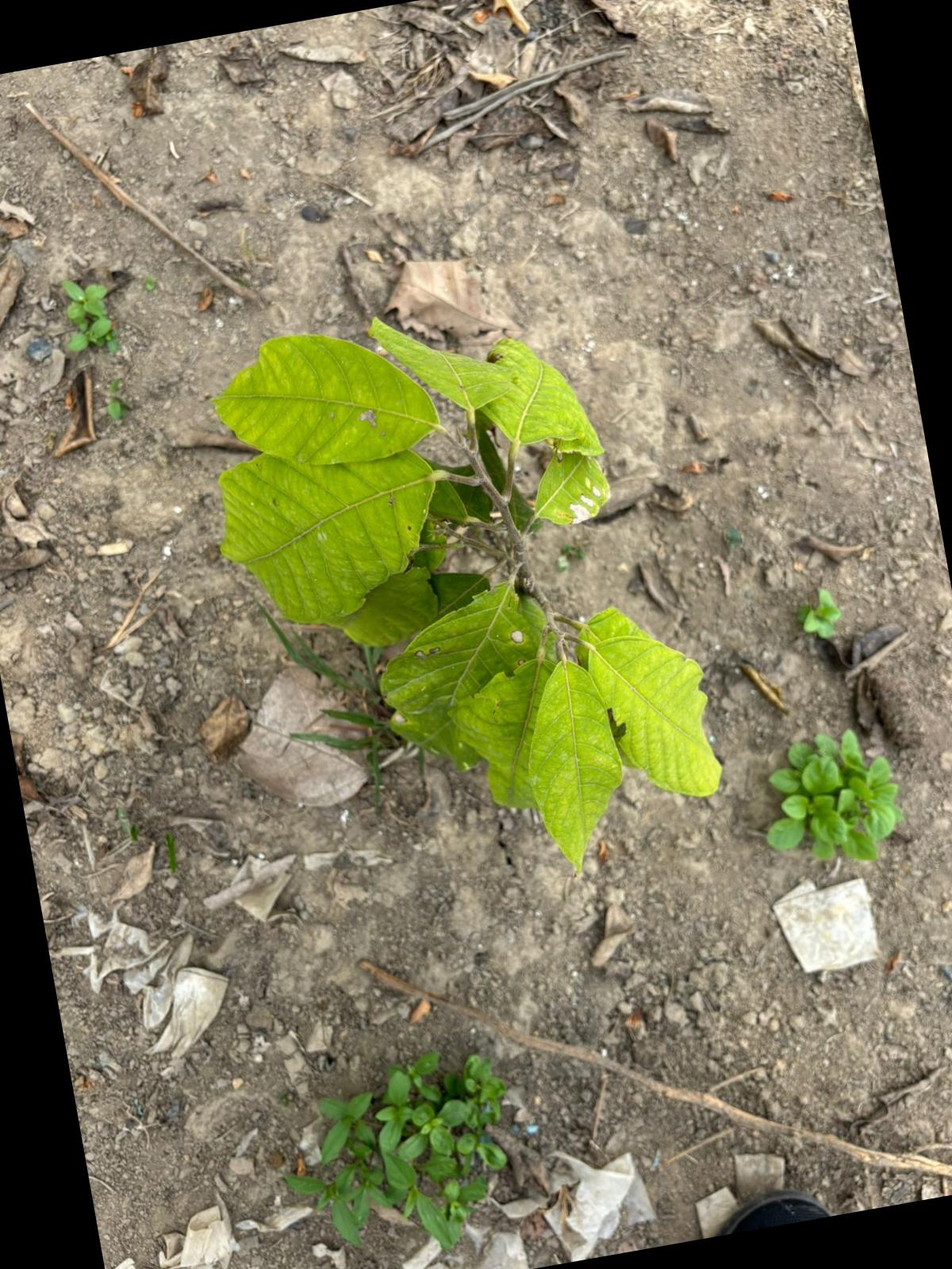Nitrogeno: (219, 451, 433, 623), (215, 336, 438, 465), (588, 635, 720, 796), (528, 661, 621, 869)
